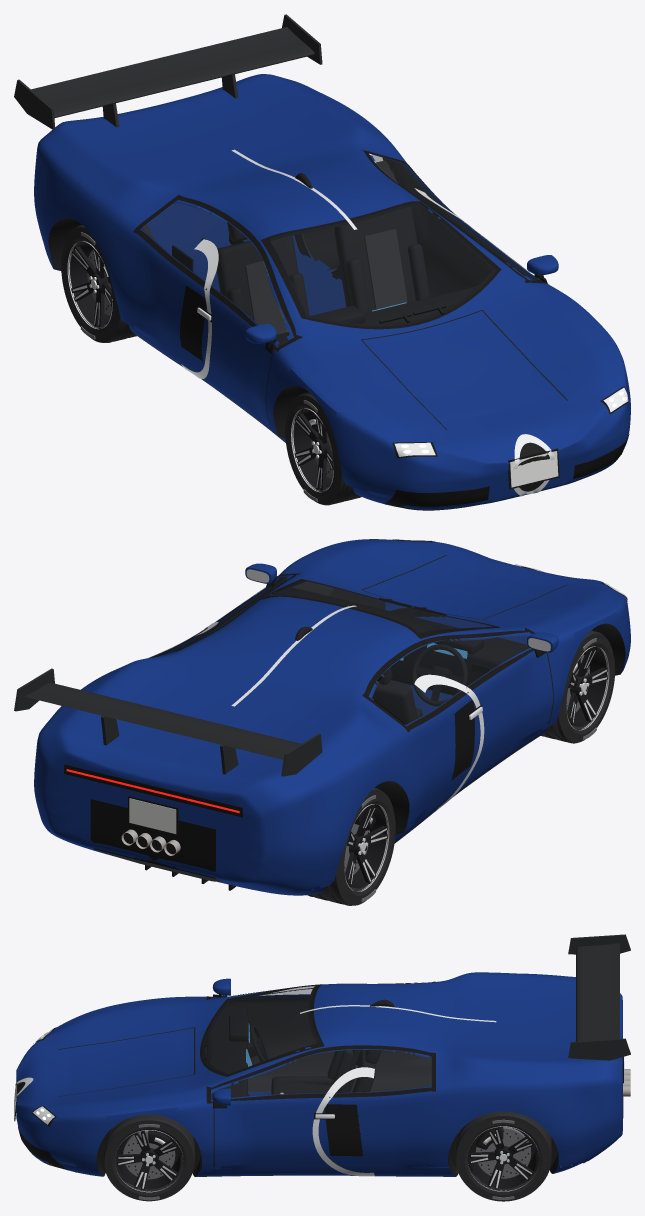
The model's file is chironps.glb.
3 views of the same model, one above another, from view 1: azimuth 30°, elevation 25°; view 2: azimuth 150°, elevation 25°; view 3: azimuth 270°, elevation 25° (orthographic). The views are drawn at different scales.
Visible parts, largest first — view 1: Body, Wheel_RR, Wheel_FR, Wheel_RL; view 2: Body, Wheel_RR, Wheel_FR; view 3: Body, Wheel_RL, Wheel_FL.
Boxes of the visible parts, left/top/right/bottom form: Body: left=14, top=14, right=630, bottom=510; Wheel_RR: left=61, top=225, right=136, bottom=342; Wheel_FR: left=285, top=392, right=361, bottom=505; Wheel_RL: left=294, top=228, right=341, bottom=279; Body: left=14, top=539, right=630, bottom=895; Wheel_RR: left=308, top=787, right=395, bottom=905; Wheel_FR: left=541, top=630, right=614, bottom=743; Body: left=14, top=934, right=630, bottom=1176; Wheel_RL: left=455, top=1111, right=551, bottom=1201; Wheel_FL: left=103, top=1114, right=194, bottom=1201.
Bounding box in the file's own units: 2.18 × 1.37 × 4.72.
